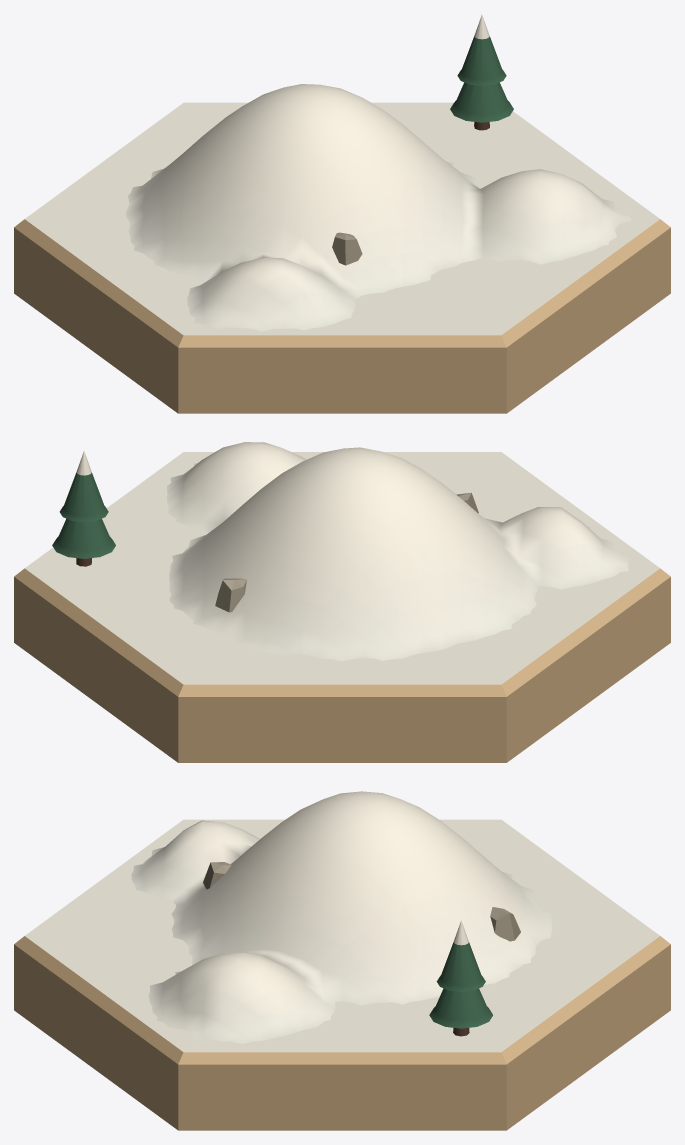
The model's file is tile_snowy_hills_2.fbx.
The picture shows the model from 3 angles, top to bottom: view 1: azimuth 30°, elevation 25°; view 2: azimuth 150°, elevation 25°; view 3: azimuth 270°, elevation 25°; orthographic projection.
Visible parts, largest first — view 1: tile_snowy_hills_2; view 2: tile_snowy_hills_2; view 3: tile_snowy_hills_2.
Boxes of the visible parts, left/top/right/bottom form: tile_snowy_hills_2: left=14, top=15, right=670, bottom=413; tile_snowy_hills_2: left=14, top=442, right=670, bottom=762; tile_snowy_hills_2: left=14, top=791, right=670, bottom=1130.
Size of the model in its own units: 1.73 by 0.6688 by 2.
